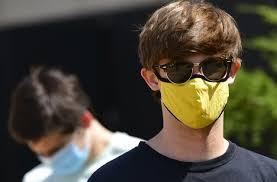mask: (157, 73, 236, 133)
sunglasses: (160, 56, 237, 86)
